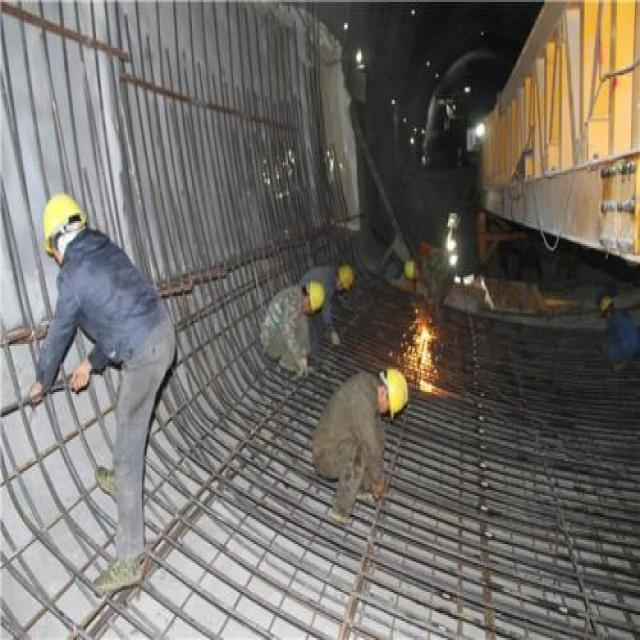helmet: (39, 250, 86, 350), (374, 481, 411, 559), (297, 367, 328, 422), (332, 344, 361, 397), (595, 385, 619, 432), (400, 339, 427, 380)
